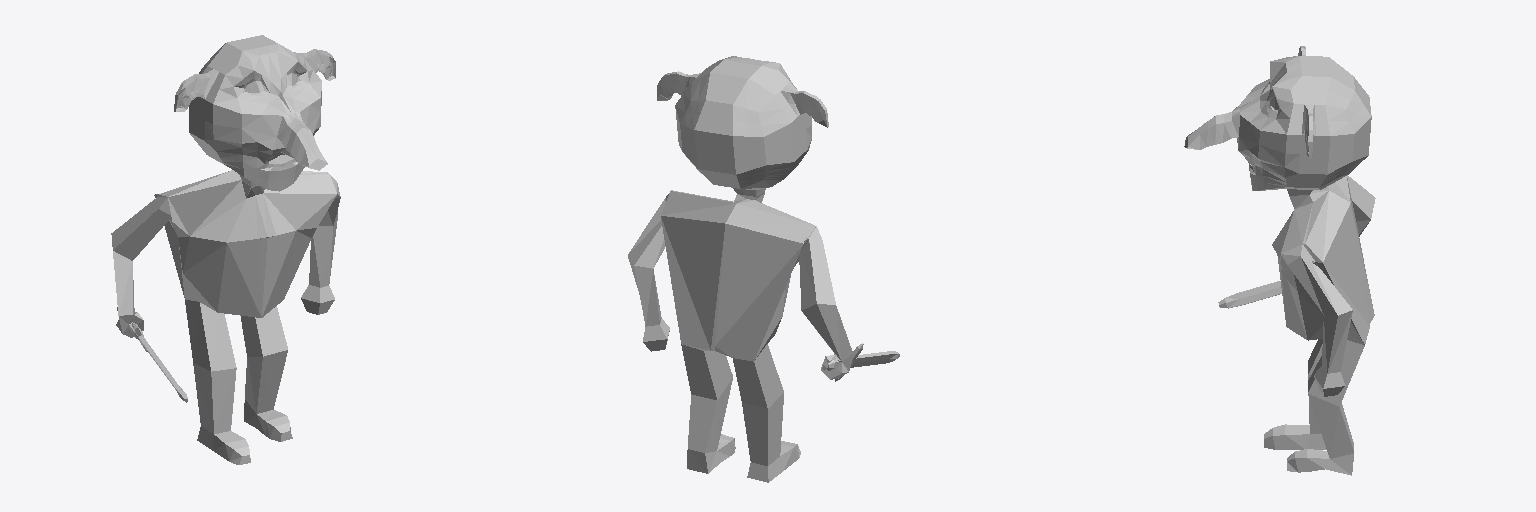
File: andrzejAttack_000080.obj
3 renders of one model, left to right at view 1: azimuth 30°, elevation 25°; view 2: azimuth 150°, elevation 25°; view 3: azimuth 270°, elevation 25°, orthographic.
Parts seen in each view (by area): view 1: Cube; view 2: Cube; view 3: Cube.
Part boxes in pixels (bbox=[...]): Cube: bbox=[111, 35, 340, 464]; Cube: bbox=[628, 56, 899, 482]; Cube: bbox=[1184, 46, 1375, 475].
Bounding box in the file's own units: 5.43 × 9.23 × 4.04.